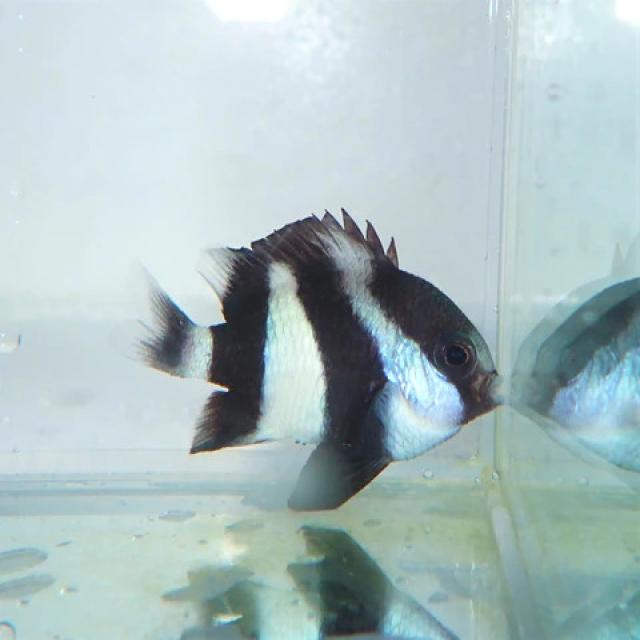ThreeStripedDamselfish: (126, 170, 502, 516)
